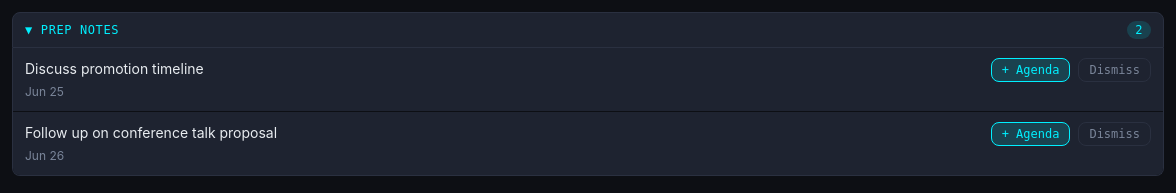
OneOnOnePrepNotes › should be collapsible
Check: the text "Discuss promotion timeline" is shown, box [25,60,204,77]
Note: Click the header to collapse
Click the button with test id "prep-notes-toggle": (80, 30) [12,12,1164,48]
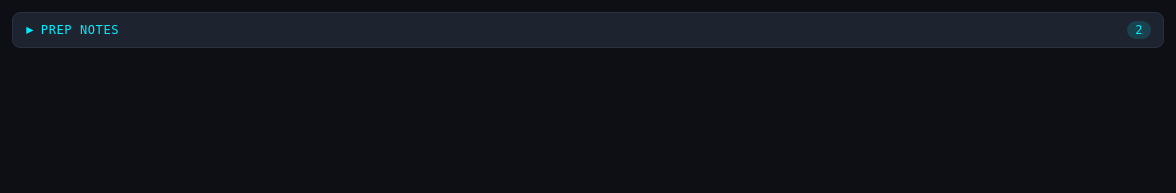
Check: the text "Discuss promotion timeline" is gone
